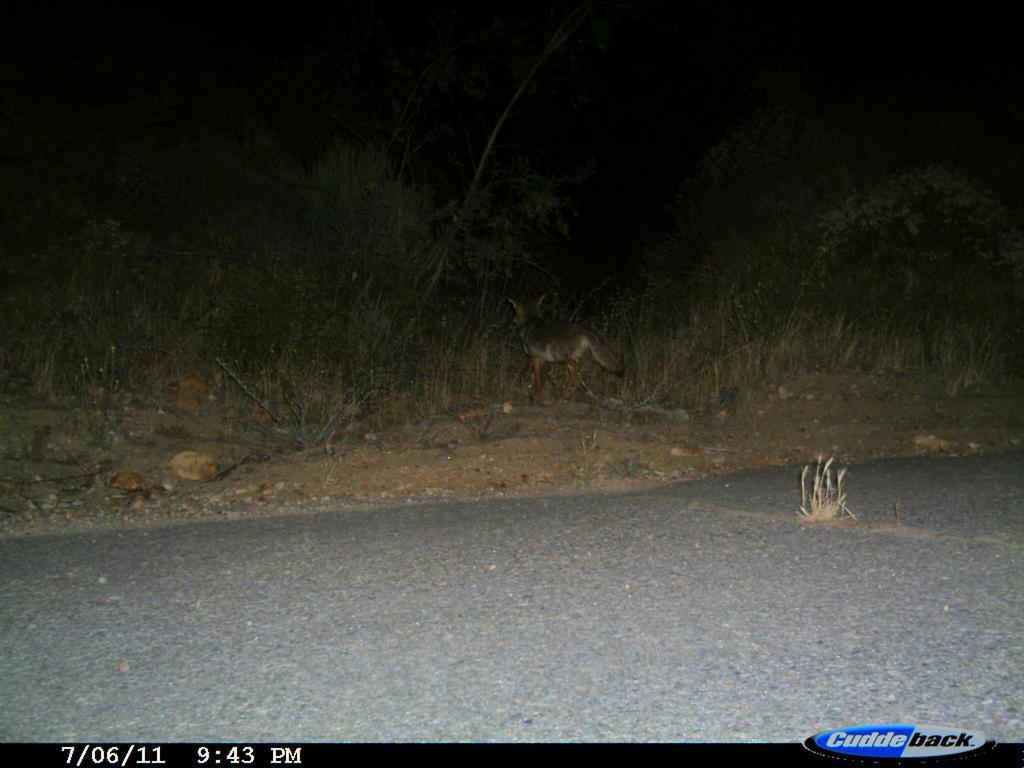coyote: (506, 291, 629, 405)
